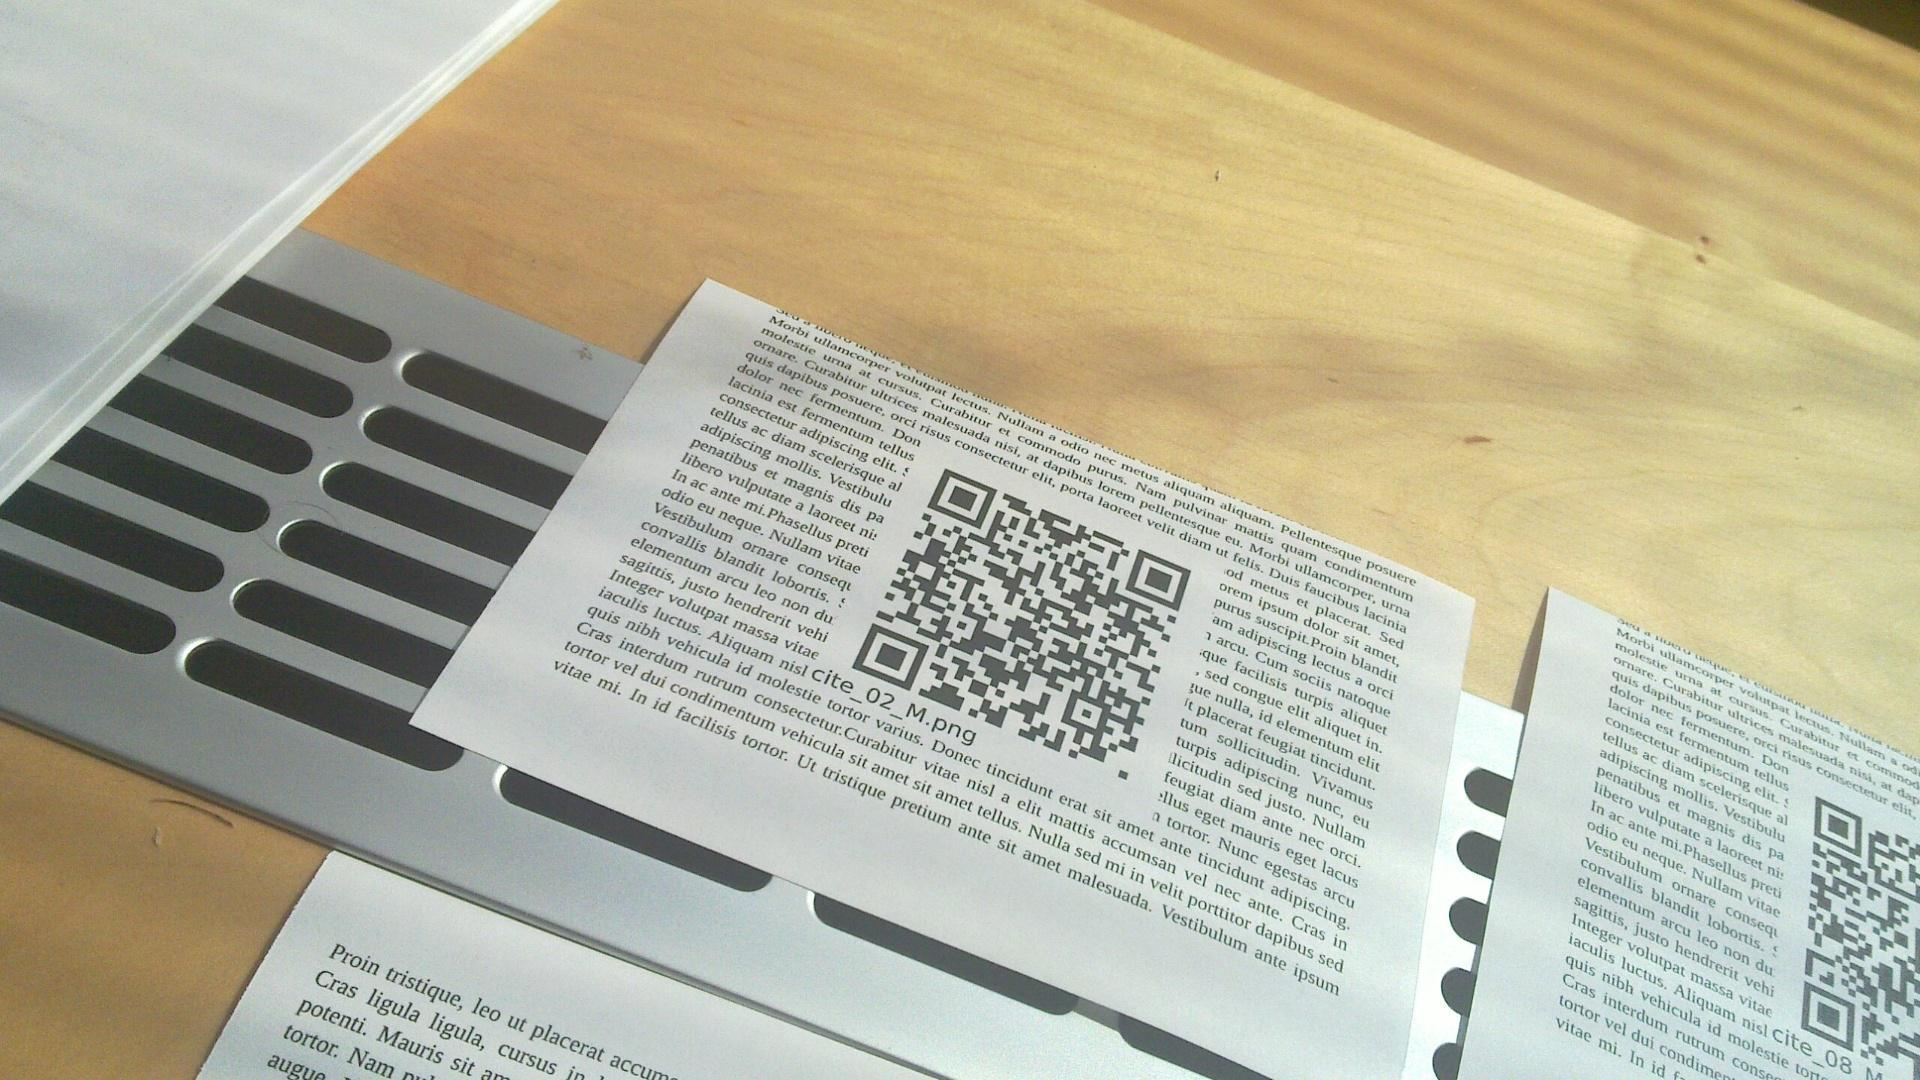Finder pattern: (848, 620, 926, 694), (1795, 978, 1859, 1054), (924, 464, 998, 529), (1125, 545, 1189, 615), (1807, 789, 1867, 858)
